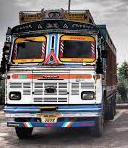truck: (4, 7, 118, 142)
